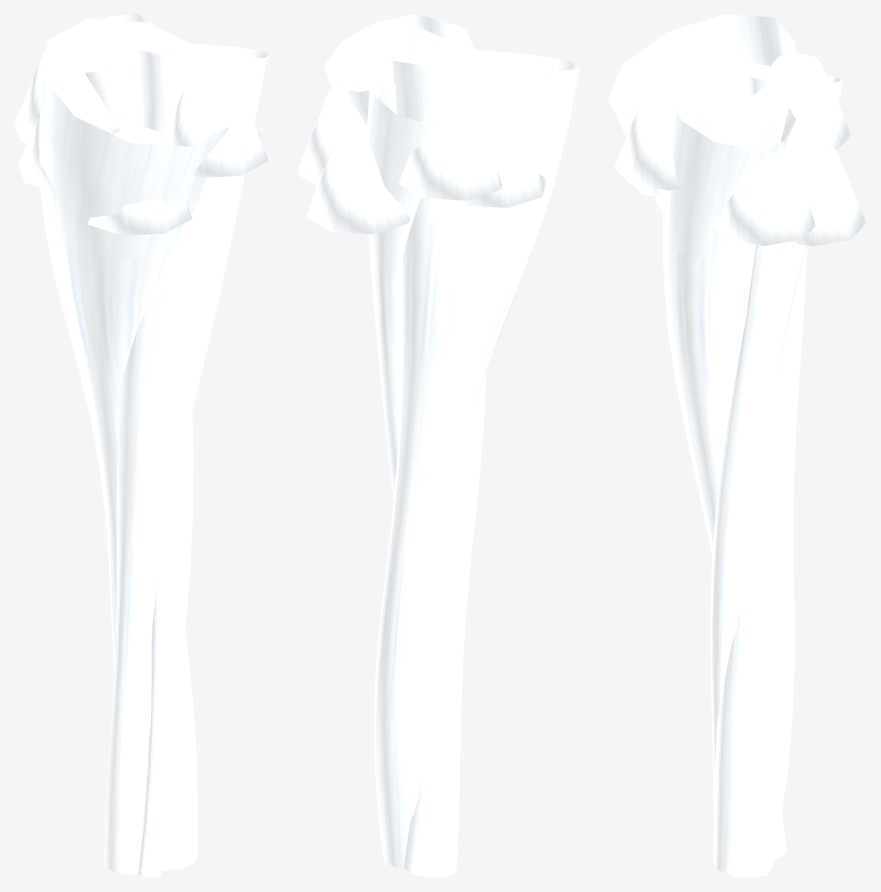
File: Oracle_Light_Pillar.gltf
The picture shows the model from 3 angles, left to right: view 1: azimuth 30°, elevation 25°; view 2: azimuth 150°, elevation 25°; view 3: azimuth 270°, elevation 25°; orthographic projection. The views are drawn at different scales.
Visible parts, largest first — view 1: Oracle_Light_Pillar; view 2: Oracle_Light_Pillar; view 3: Oracle_Light_Pillar.
Boxes of the visible parts, x1=… form: Oracle_Light_Pillar: x1=14, y1=14, x2=268, y2=877; Oracle_Light_Pillar: x1=297, y1=14, x2=579, y2=877; Oracle_Light_Pillar: x1=608, y1=14, x2=866, y2=877.
Bounding box in the file's own units: 10 × 33.62 × 9.81.
2 materials, 2 textured.
